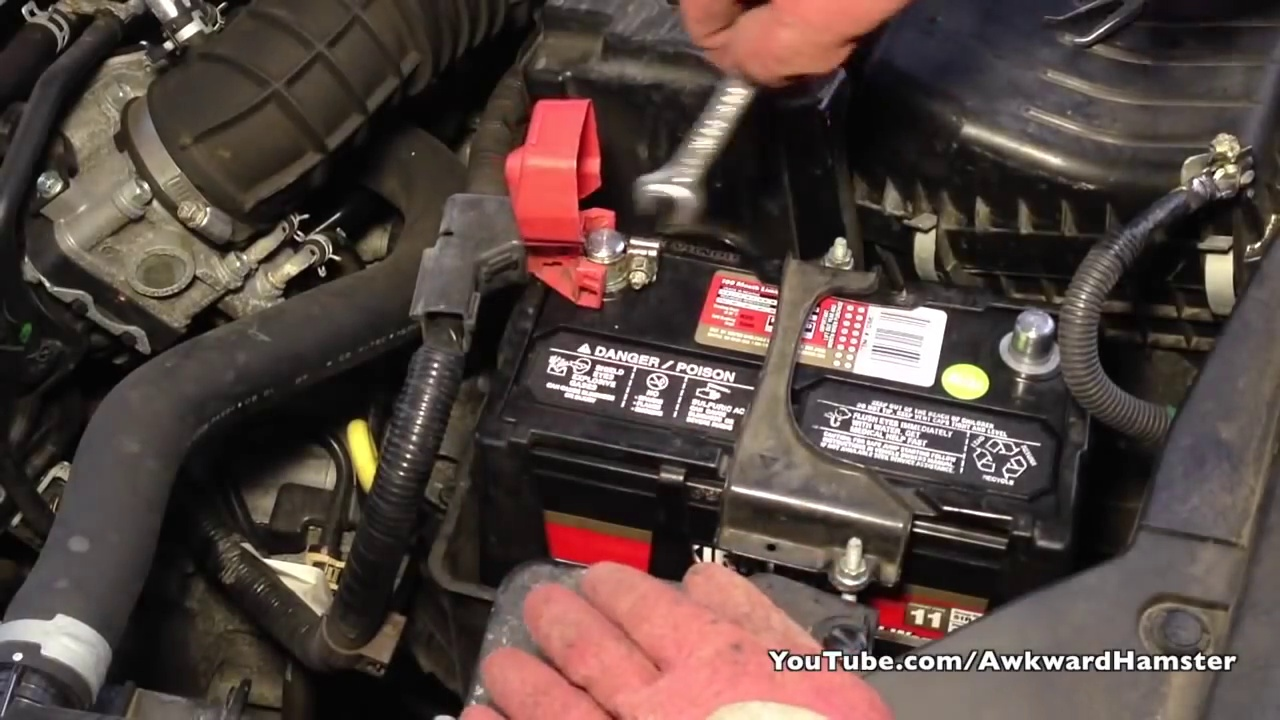battery: (472, 222, 1083, 537)
neg_disconnected: (967, 271, 1108, 401)
pos_connected: (477, 126, 671, 315)
